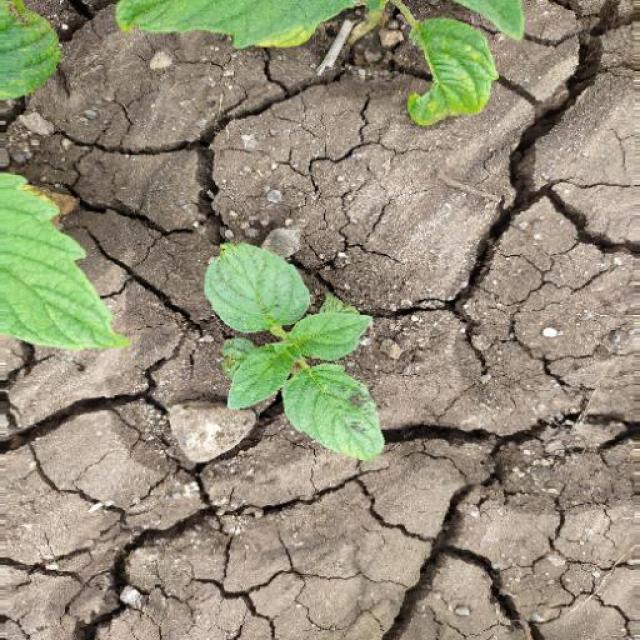crop: (195, 245, 409, 463)
